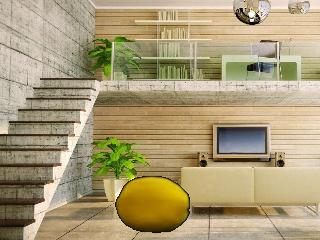lemon: (116, 177, 188, 231)
